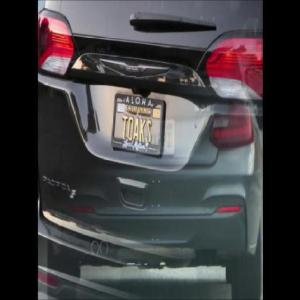Plate: (115, 90, 162, 154)
